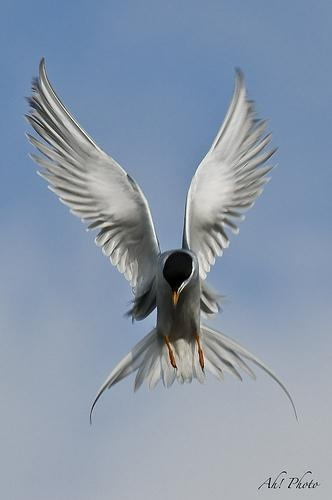bird: (17, 56, 309, 403)
